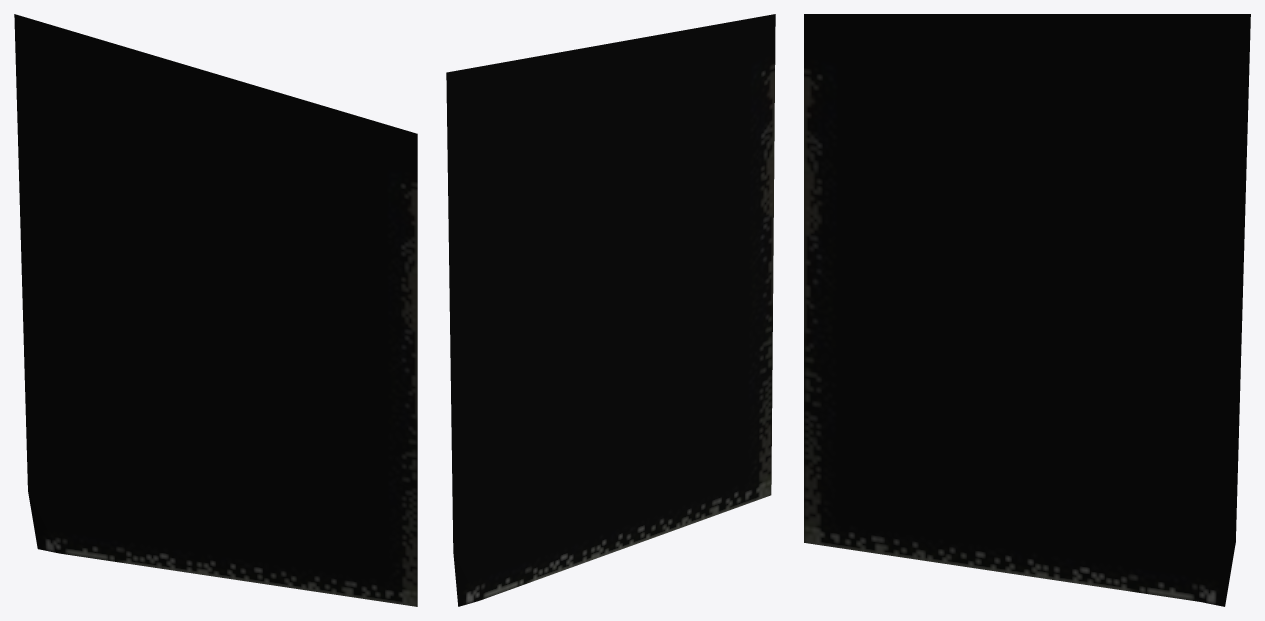
3 renders of one model, left to right at view 1: azimuth 90°, elevation 25°; view 2: azimuth 150°, elevation 25°; view 3: azimuth 270°, elevation 25°, orthographic. The views are drawn at different scales.
Size of the model in its own units: 0.8975 by 3.74 by 2.55.
1 material, 1 textured.
